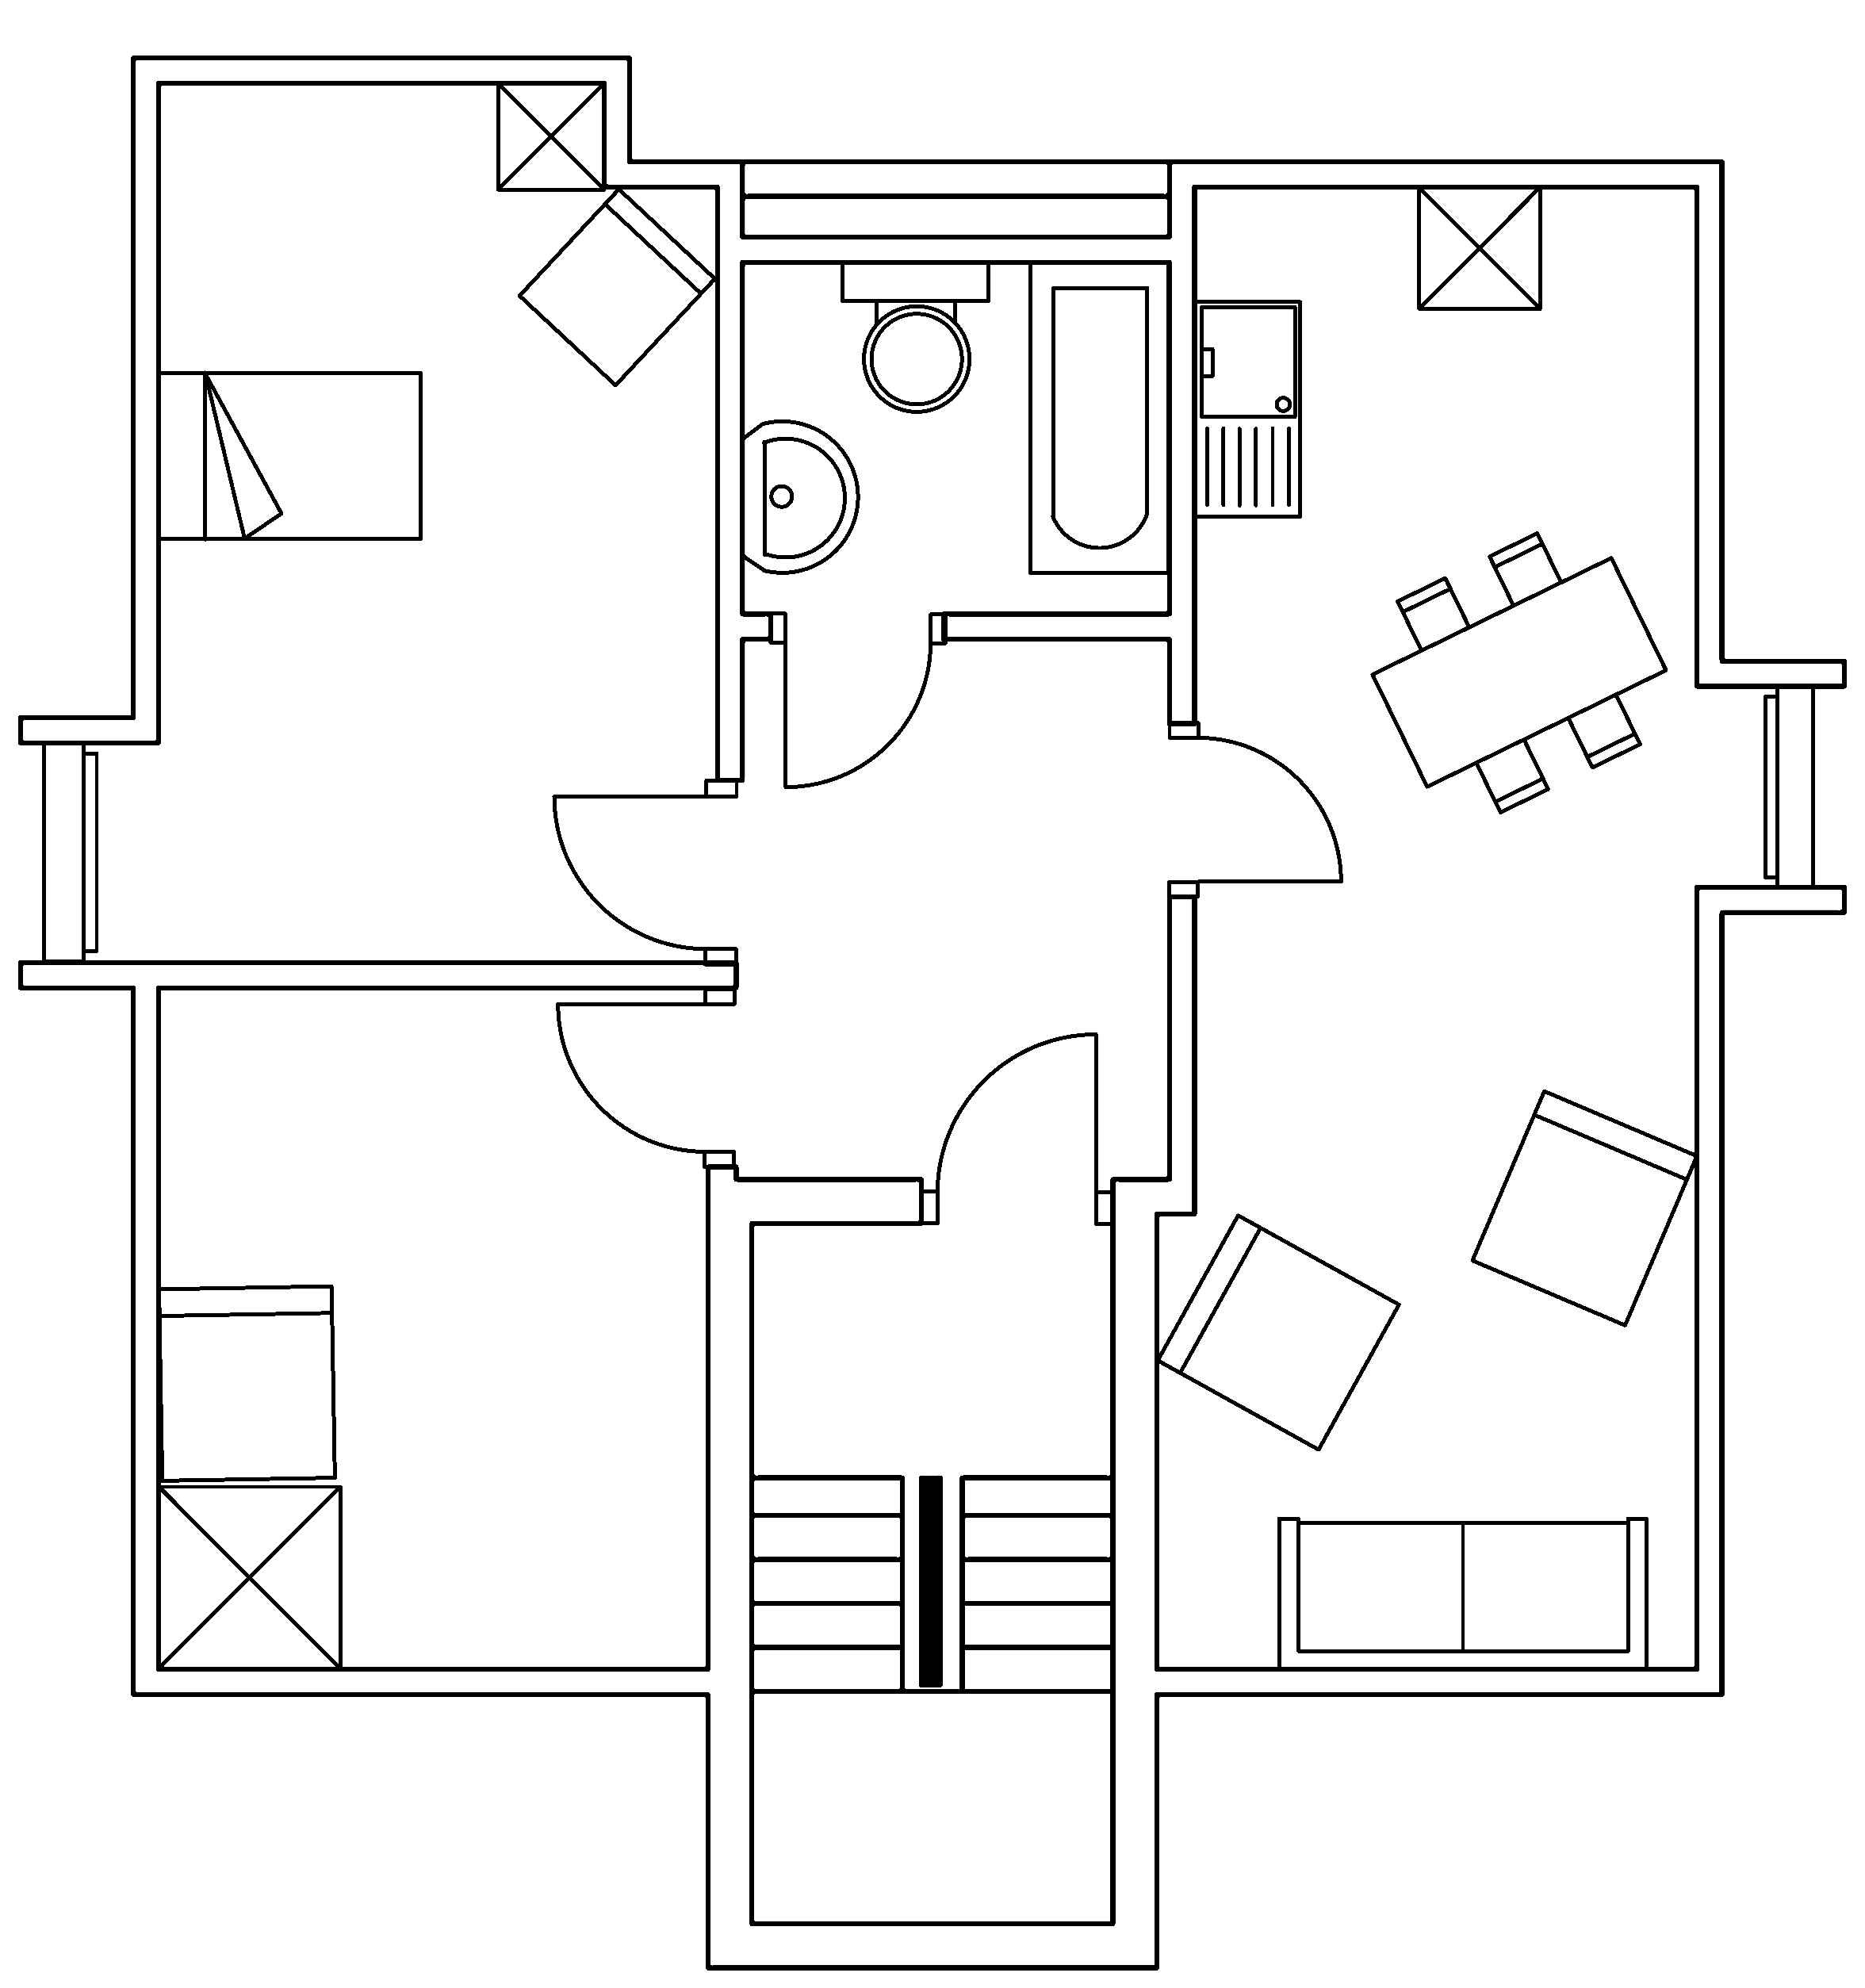bed: (154, 368, 424, 542)
coffee_table: (154, 1481, 342, 1671), (1416, 182, 1542, 310), (494, 79, 606, 191)
dining_table: (1369, 529, 1669, 815)
large_sink: (840, 258, 990, 412)
large_sofa: (1274, 1515, 1649, 1672)
sink: (1192, 298, 1302, 519)
small_sink: (740, 419, 859, 573)
small_sofa: (1153, 1211, 1401, 1452), (1469, 1087, 1698, 1327), (515, 186, 717, 387), (156, 1282, 337, 1483)
tub: (1027, 258, 1171, 575)
